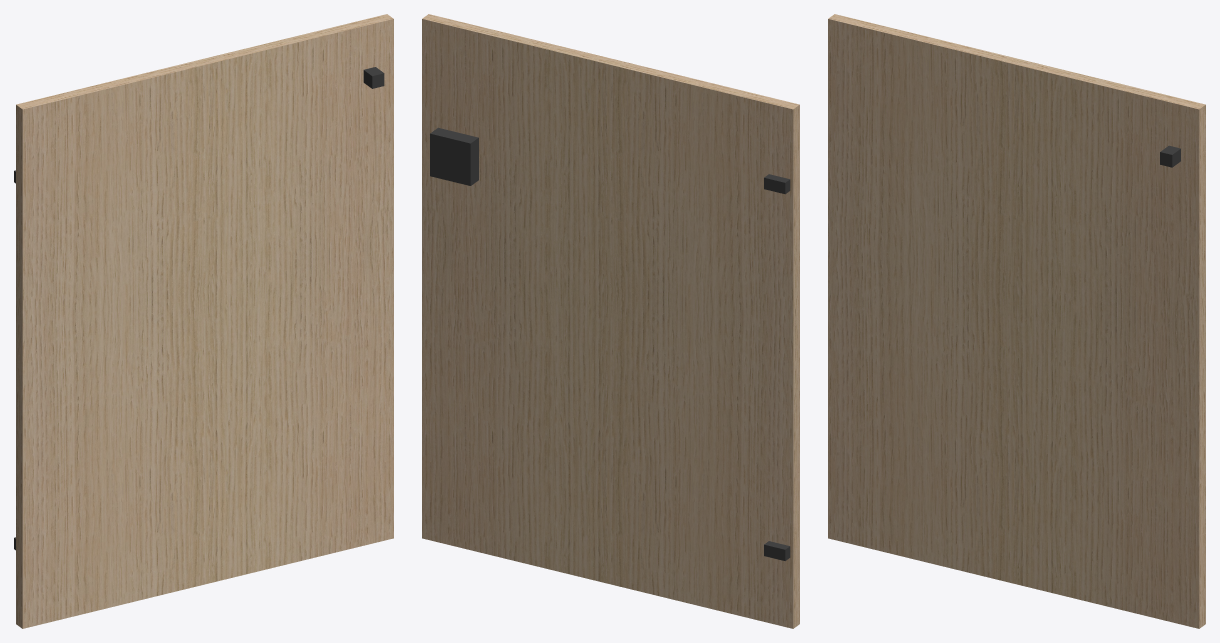
The model's file is B_dor_nedre.glb.
3 renders of one model, left to right at view 1: azimuth 30°, elevation 25°; view 2: azimuth 150°, elevation 25°; view 3: azimuth 330°, elevation 25°, orthographic.
Visible parts, largest first — view 1: 2025-284 Resepsjon høyskap; view 2: 2025-284 Resepsjon høyskap; view 3: 2025-284 Resepsjon høyskap.
Boxes of the visible parts, box(x1,y1,x2,y2) form: 2025-284 Resepsjon høyskap: box(14, 14, 393, 628); 2025-284 Resepsjon høyskap: box(422, 14, 799, 628); 2025-284 Resepsjon høyskap: box(828, 14, 1205, 628).
Size of the model in its own units: 611 by 817 by 67.
Materials: 2 (1 with a texture image).
